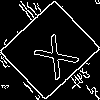X: (25, 25, 80, 82)
